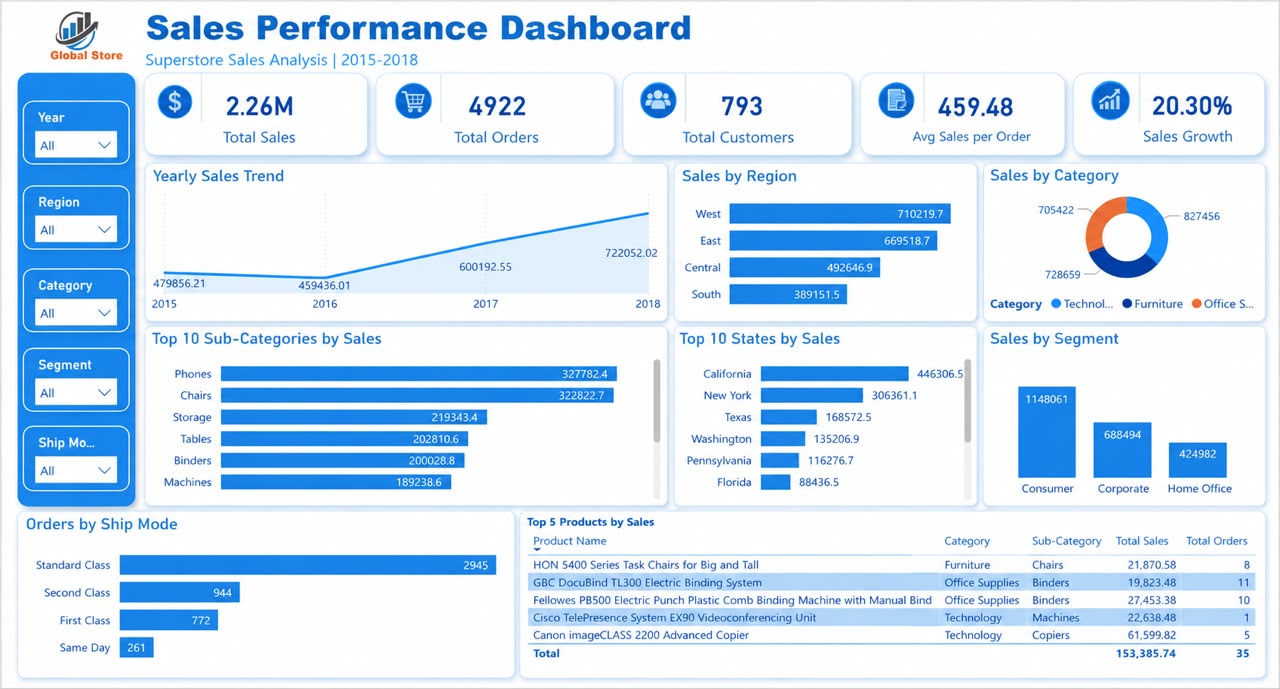

Layout of this report page (visuals, bound fields, positions):
{"tool":"powerbi","page":{"name":"Page 1","canvas":[1280,720],"ordinal":0},"visuals":[{"type":"textbox","box":[0,0,1280,95],"z":0},{"type":"image","box":[0,0,181.7,88.3],"z":1000},{"type":"shape","box":[0,95,103.3,625],"z":2000},{"type":"shape","box":[91.7,88.3,1185,61.7],"z":3000},{"type":"slicer","fields":{"Values":["Sales Data.Region"]},"box":[89.2,94.6,589.4,47],"z":4000},{"type":"card","fields":{"Values":["Sales Data.Total Revenue"]},"box":[101.1,143.3,188.3,90],"z":5000},{"type":"lineChart","title":"Total Sales by Year","fields":{"Category":["Sales Data.Year"],"Y":["Sum(Sales Data.Sales)"]},"box":[419.4,456.6,297.9,251],"z":6000},{"type":"clusteredBarChart","fields":{"Category":["Sales Data.Region"],"Y":["Sales Data.Total Revenue"]},"box":[103.3,238.3,288.3,211.7],"z":7000},{"type":"donutChart","title":"Revenue by Category","fields":{"Category":["Sales Data.Category"],"Y":["Sales Data.Total Revenue"]},"box":[753.3,238.3,256.7,211.7],"z":8000},{"type":"barChart","title":"Total Sales by Segment","fields":{"Category":["Sales Data.Segment"],"Y":["Sum(Sales Data.Sales)"]},"box":[103.3,456.7,310,251.7],"z":9000},{"type":"clusteredColumnChart","title":"Shipping Mode Analysis","fields":{"Category":["Sales Data.Ship Mode"],"Y":["Sum(Sales Data.Sales)"]},"box":[1015,236.7,261.7,213.3],"z":10000},{"type":"columnChart","title":"Total Sales by Quarter","fields":{"Category":["Sales Data.Quarter"],"Y":["Sum(Sales Data.Sales)"]},"box":[1031.7,456.7,245,253.3],"z":11000},{"type":"textbox","box":[25,58.3,156.7,30],"z":12000},{"type":"slicer","fields":{"Values":["Sales Data.Year"]},"box":[1.7,116.7,101.7,288.3],"z":13000},{"type":"slicer","fields":{"Values":["Sales Data.Quarter"]},"box":[0,405,100,285],"z":14000},{"type":"slicer","fields":{"Values":["Sales Data.Segment"]},"box":[693,95.5,578.1,50.2],"z":15000},{"type":"clusteredColumnChart","title":"Top 5 States","fields":{"Category":["Sales Data.State"],"Y":["Sum(Sales Data.Sales)"]},"box":[396.7,238.3,353.3,211.7],"z":16000},{"type":"barChart","title":"Revenue by Sub-Category","fields":{"Category":["Sales Data.Sub-Category"],"Y":["Sum(Sales Data.Sales)"]},"box":[722.2,456.6,302.8,251],"z":17000},{"type":"card","fields":{"Values":["Sales Data.Total Orders"]},"box":[296.1,143.3,190,90],"z":18000},{"type":"card","fields":{"Values":["Sales Data.Total Customers"]},"box":[491.1,143.3,188.3,90],"z":19000},{"type":"card","fields":{"Values":["Sales Data.Total Products"]},"box":[684.4,143.3,188.3,90],"z":20000},{"type":"card","fields":{"Values":["Sales Data.Average Order Value"]},"box":[879.4,143.3,188.3,90],"z":21000},{"type":"card","fields":{"Values":["Sales Data.Average Sales"]},"box":[1074.4,143.3,188.3,88.3],"z":22000}]}

Visuals, with their boxes on the page's 1280x720 design canvas (x1, y1, x2, y2). These are canvas units, not pixel positions in the 1280x689 screenshot, which may show the page scaled, cropped or inside an application window:
textbox: bbox(0, 0, 1280, 95)
image: bbox(0, 0, 182, 88)
shape: bbox(0, 95, 103, 720)
shape: bbox(92, 88, 1277, 150)
slicer - Sales Data.Region: bbox(89, 95, 679, 142)
card - Sales Data.Total Revenue: bbox(101, 143, 289, 233)
"Total Sales by Year" lineChart: bbox(419, 457, 717, 708)
clusteredBarChart - Sales Data.Region x Sales Data.Total Revenue: bbox(103, 238, 392, 450)
"Revenue by Category" donutChart: bbox(753, 238, 1010, 450)
"Total Sales by Segment" barChart: bbox(103, 457, 413, 708)
"Shipping Mode Analysis" clusteredColumnChart: bbox(1015, 237, 1277, 450)
"Total Sales by Quarter" columnChart: bbox(1032, 457, 1277, 710)
textbox: bbox(25, 58, 182, 88)
slicer - Sales Data.Year: bbox(2, 117, 103, 405)
slicer - Sales Data.Quarter: bbox(0, 405, 100, 690)
slicer - Sales Data.Segment: bbox(693, 96, 1271, 146)
"Top 5 States" clusteredColumnChart: bbox(397, 238, 750, 450)
"Revenue by Sub-Category" barChart: bbox(722, 457, 1025, 708)
card - Sales Data.Total Orders: bbox(296, 143, 486, 233)
card - Sales Data.Total Customers: bbox(491, 143, 679, 233)
card - Sales Data.Total Products: bbox(684, 143, 873, 233)
card - Sales Data.Average Order Value: bbox(879, 143, 1068, 233)
card - Sales Data.Average Sales: bbox(1074, 143, 1263, 232)
